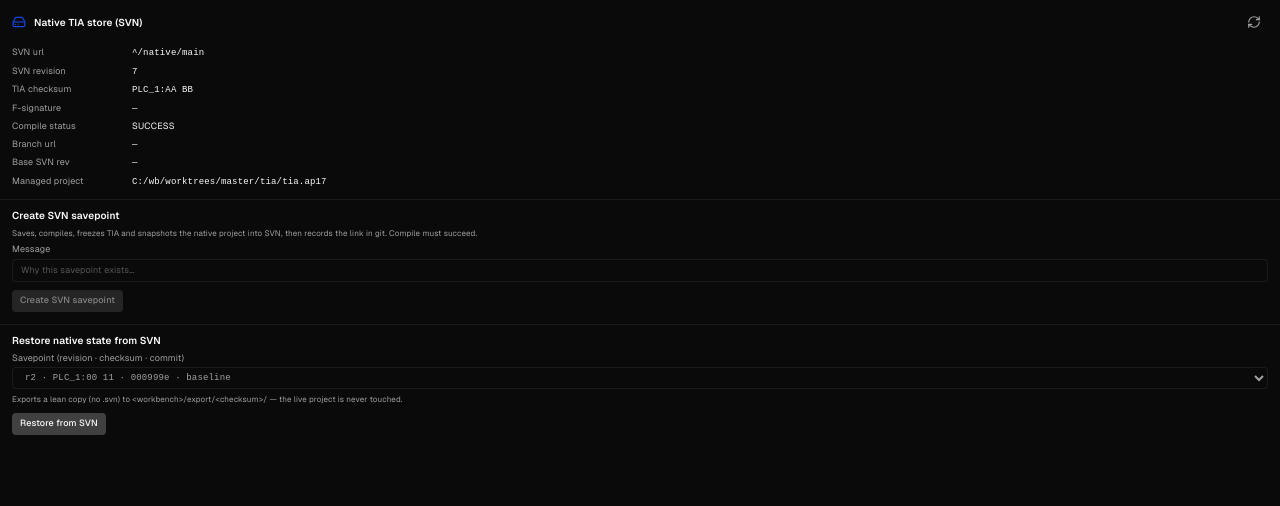
NativeStorePanel › lists savepoints as revision + checksum + commit and restores the selection
Select "r2 · PLC_1:00 11 · 000999e · baseline" in the dropdown labelled "Savepoint (revision · checksum · commit)" at [640, 378], box [12,367,1268,389]
Click the button "Restore from SVN" at [59, 424], box [12,413,106,434]
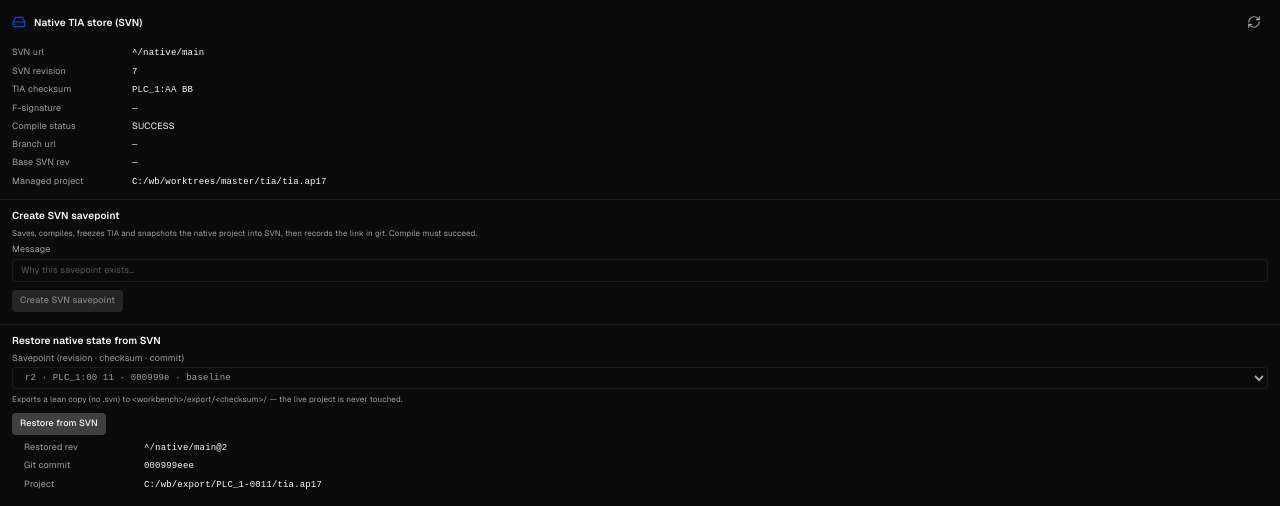
Result: the text "C:/wb/export/PLC_1-0011/tia.ap17" is shown at [144,480,322,490]
Result: the text "^/native/main@2" is shown at [144,442,227,452]
